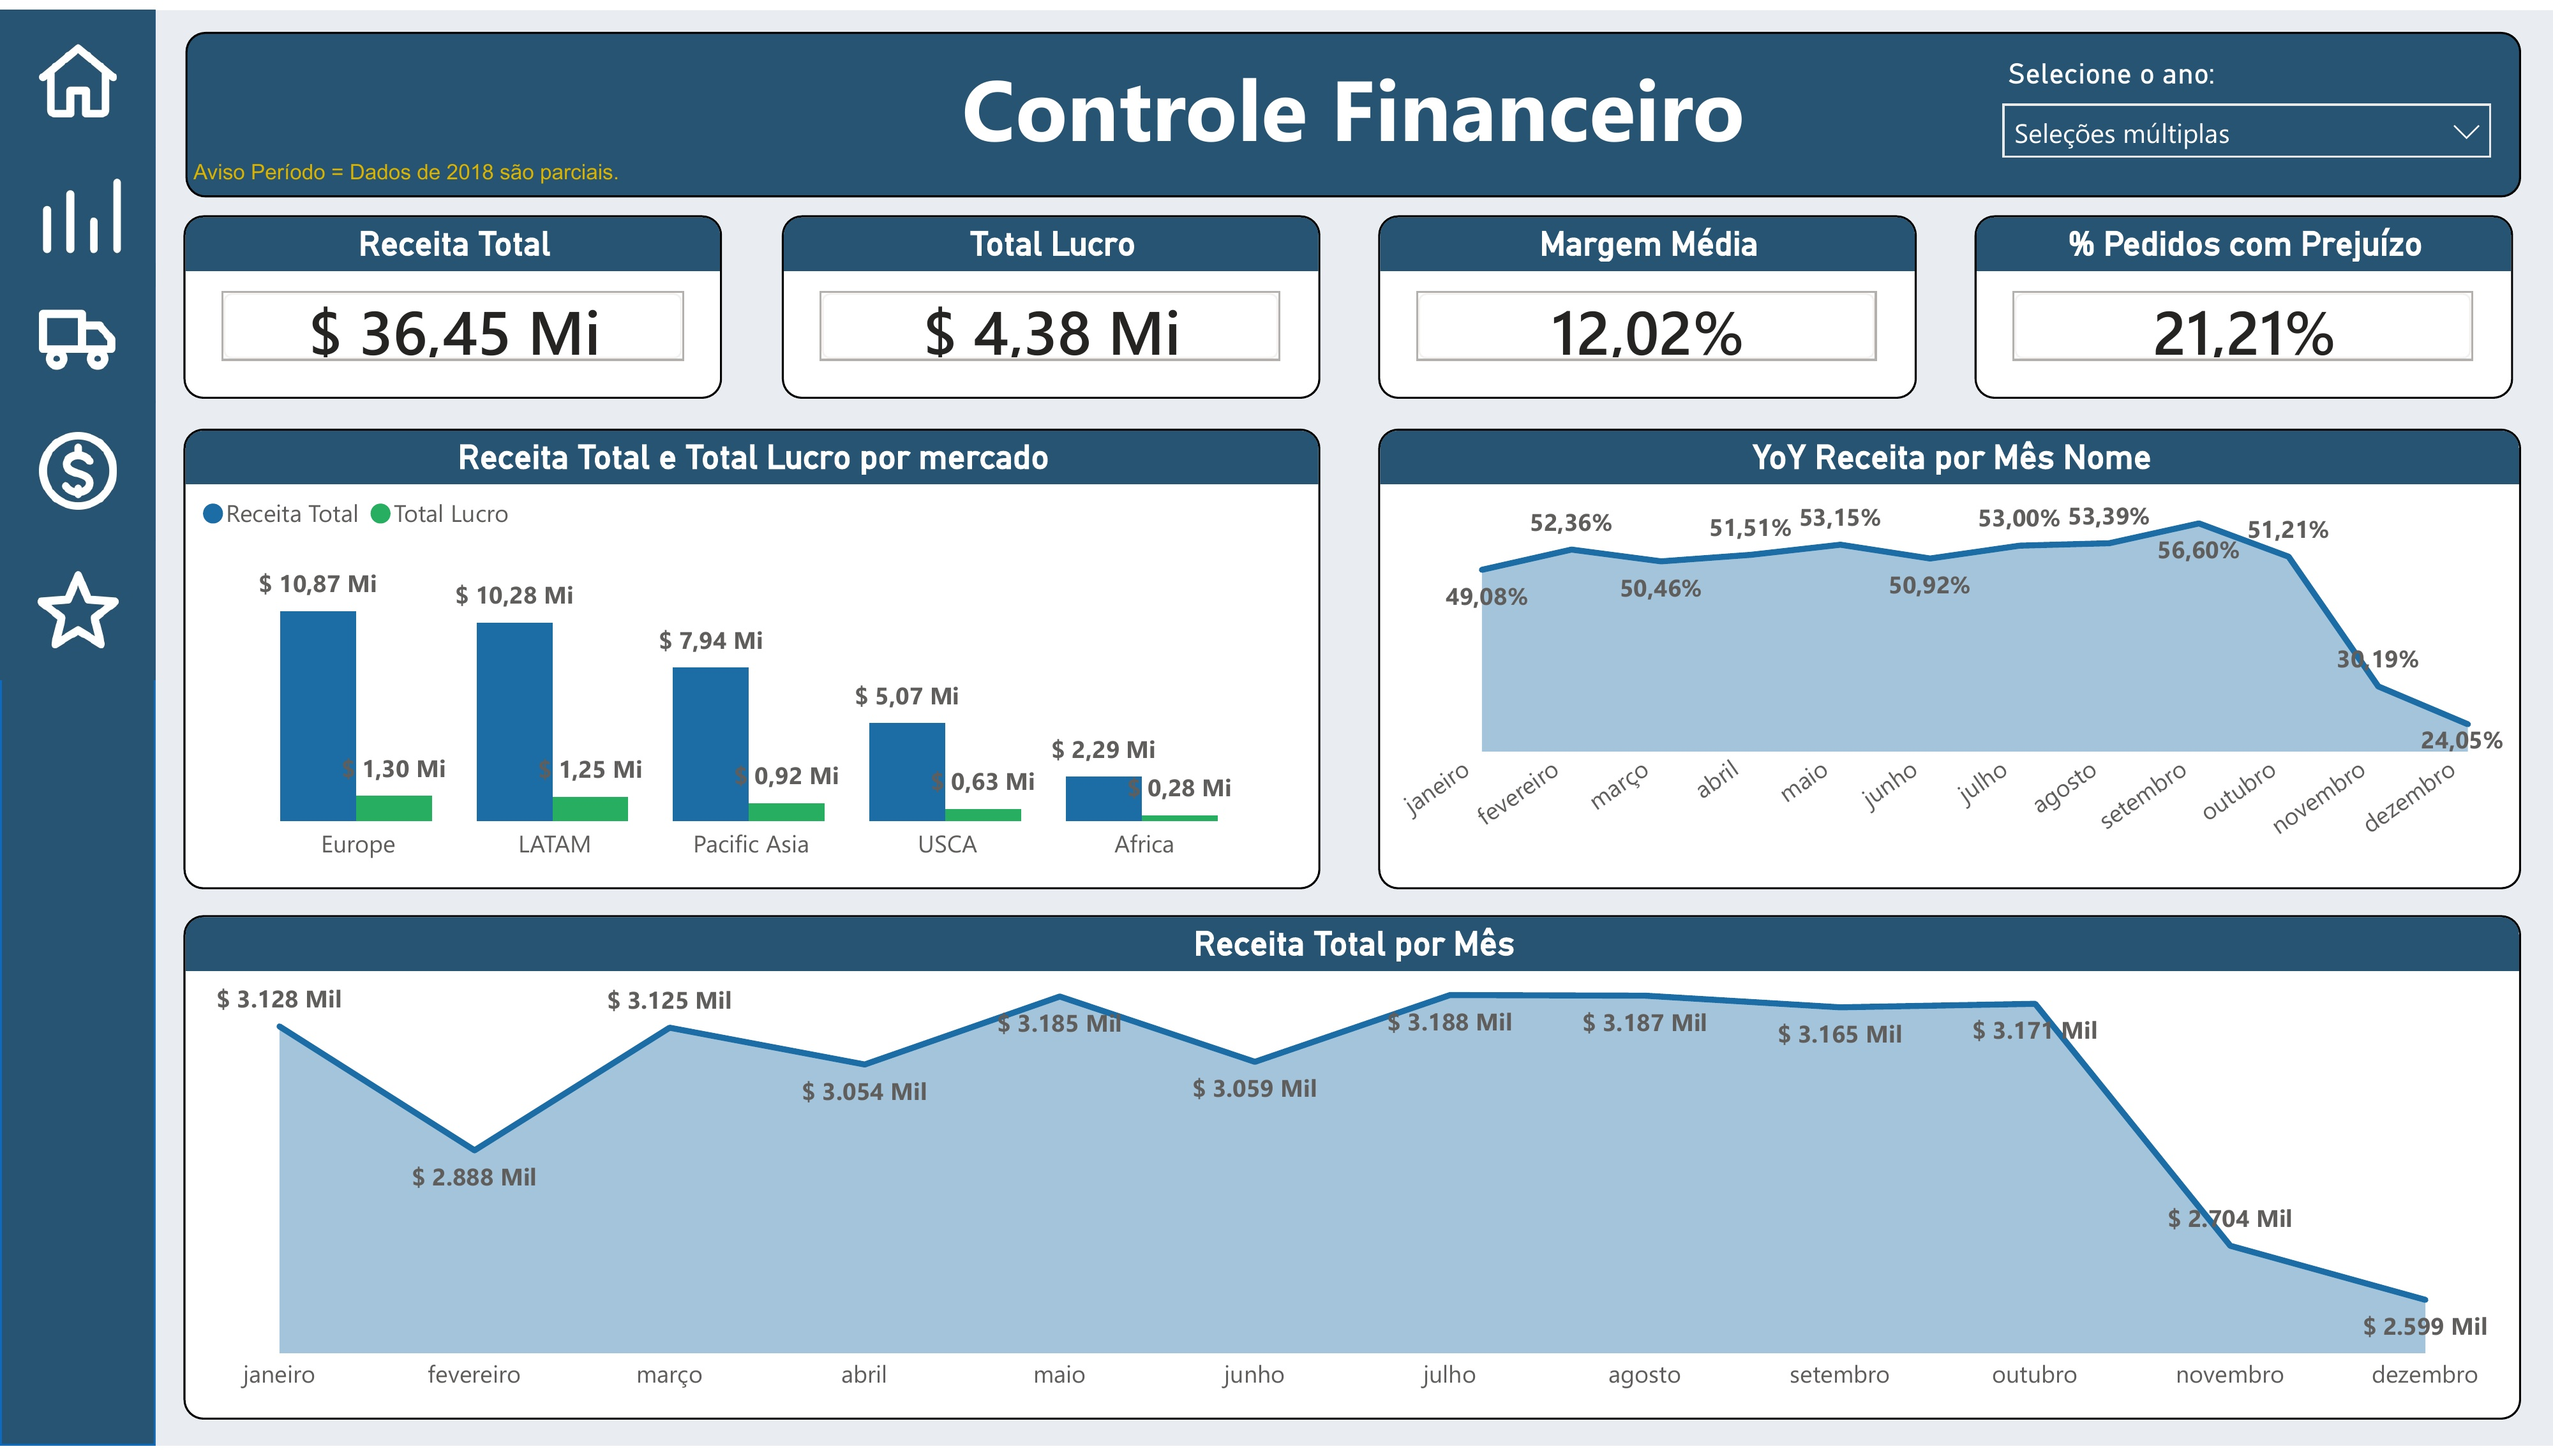

The dashboard page shown, as its layout file describes it:
{"tool":"powerbi","page":{"name":"Financeiro","canvas":[1280,720],"ordinal":3},"visuals":[{"type":"shape","box":[0,0,78.3,720.2],"z":0},{"type":"cardVisual","title":"Receita Total","fields":{"Data":["vw_vendas.Receita Total"]},"box":[92.3,103.2,270,92],"z":1000},{"type":"cardVisual","title":"Total Lucro","fields":{"Data":["vw_vendas.Total Lucro"]},"box":[391.8,103.2,269.7,92.3],"z":2000},{"type":"cardVisual","title":"Margem Média","fields":{"Data":["vw_vendas.Margem Media"]},"box":[690.8,103.2,269.7,92.3],"z":3000},{"type":"cardVisual","title":"% Pedidos com Prejuízo","fields":{"Data":["vw_vendas.% Pedidos com Prejuizo"]},"box":[989.9,103.2,269.7,92.3],"z":4000},{"type":"areaChart","fields":{"Y":["vw_vendas.Receita Total"],"Category":["dCalendario.Date.Variation.Hierarquia de datas.Mês"]},"box":[92.3,454.3,1172.1,252.6],"z":5000},{"type":"textbox","box":[92.9,10.9,1171.5,83.2],"z":6000},{"type":"clusteredColumnChart","fields":{"Category":["vw_vendas.mercado"],"Y":["vw_vendas.Receita Total","vw_vendas.Total Lucro"]},"box":[92.3,210.1,569.7,230.8],"z":7000},{"type":"areaChart","fields":{"Y":["vw_vendas.YoY Receita"],"Category":["dCalendario.Mês Nome"]},"box":[691.1,210.1,573.3,230.8],"z":8000},{"type":"slicer","fields":{"Values":["dCalendario.Date.Variation.Hierarquia de datas.Ano1"]},"box":[994.1,19.3,265.4,66.4],"z":9000},{"type":"textbox","box":[92.3,65.6,449.4,40.1],"z":10000},{"type":"image","box":[0,0,77.5,68.8],"z":10001},{"type":"image","box":[0,69,78,70],"z":10002},{"type":"image","box":[0,127,78,70],"z":10003},{"type":"image","box":[0,196,78,70],"z":10004},{"type":"image","box":[0,266,78,70],"z":10005}]}

Visuals, with their boxes on the page's 1280x720 design canvas (x1, y1, x2, y2). These are canvas units, not pixel positions in the 2553x1456 screenshot, which may show the page scaled, cropped or inside an application window:
shape: box=[0, 0, 78, 720]
"Receita Total" cardVisual: box=[92, 103, 362, 195]
"Total Lucro" cardVisual: box=[392, 103, 662, 196]
"Margem Média" cardVisual: box=[691, 103, 960, 196]
"% Pedidos com Prejuízo" cardVisual: box=[990, 103, 1260, 196]
areaChart - vw_vendas.Receita Total x dCalendario.Date.Variation.Hierarquia de datas.Mês: box=[92, 454, 1264, 707]
textbox: box=[93, 11, 1264, 94]
clusteredColumnChart - vw_vendas.mercado x vw_vendas.Receita Total: box=[92, 210, 662, 441]
areaChart - vw_vendas.YoY Receita x dCalendario.Mês Nome: box=[691, 210, 1264, 441]
slicer - dCalendario.Date.Variation.Hierarquia de datas.Ano1: box=[994, 19, 1260, 86]
textbox: box=[92, 66, 542, 106]
image: box=[0, 0, 78, 69]
image: box=[0, 69, 78, 139]
image: box=[0, 127, 78, 197]
image: box=[0, 196, 78, 266]
image: box=[0, 266, 78, 336]
